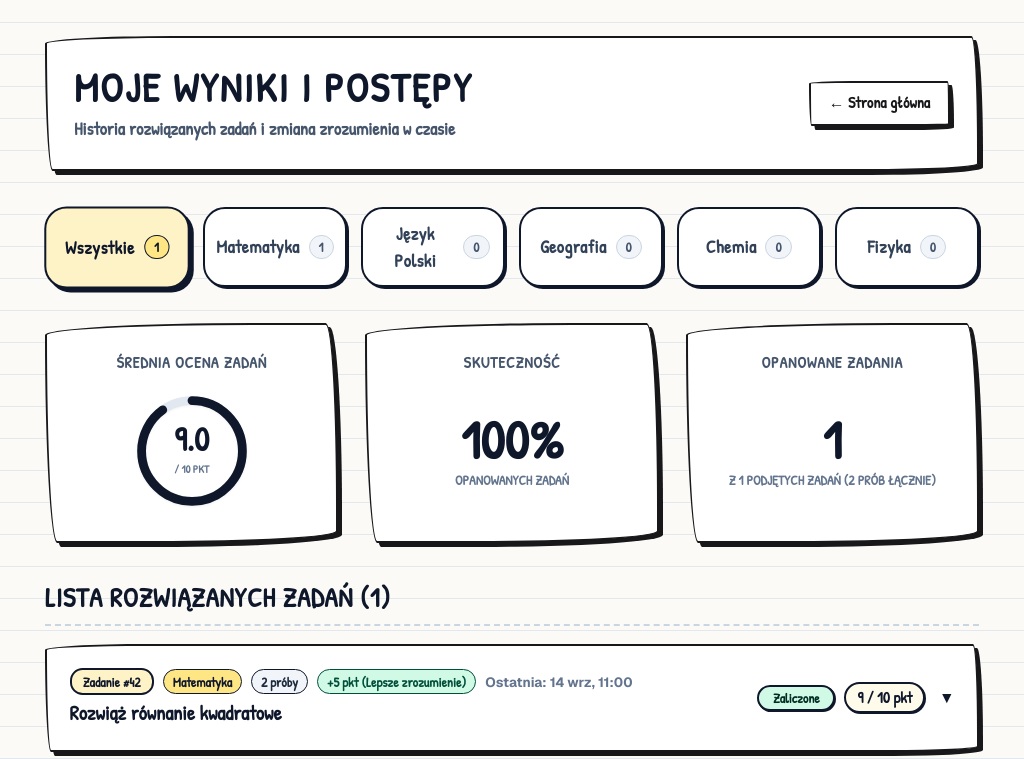
Test: ResultsPage - Repeat Answer & Attempt Tracking › renders attempt badges and score progression for repeated attempts
This screenshot has width=1024, height=759.
Expected: the heading "Moje wyniki i postępy" is shown, [74,65,473,110]
Expected: the text "Zadanie #42" is shown once, [70,668,154,695]
# Click to expand the question card
Click the heading "Rozwiąż równanie kwadratowe" at (175,713), box [70,700,281,726]
(page scrolled)
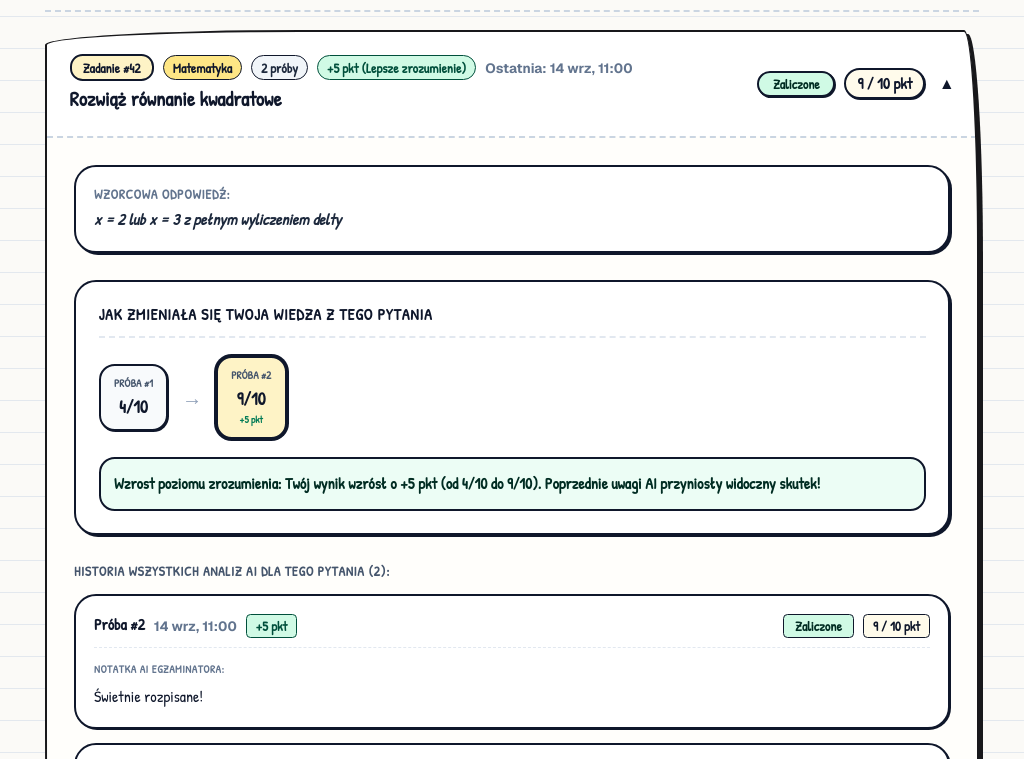
Expected: the heading "Jak zmieniała się Twoja wiedza z tego pytania" is shown, [98,304,432,325]
Expected: the text "Wzrost poziomu zrozumienia: Twój wynik wzrósł o" is shown, [114,472,397,494]
Expected: the text "Próba #1" is shown, [114,375,153,393]
